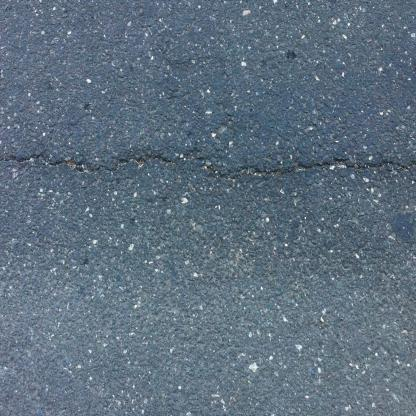Cracks: (0, 151, 416, 187)
